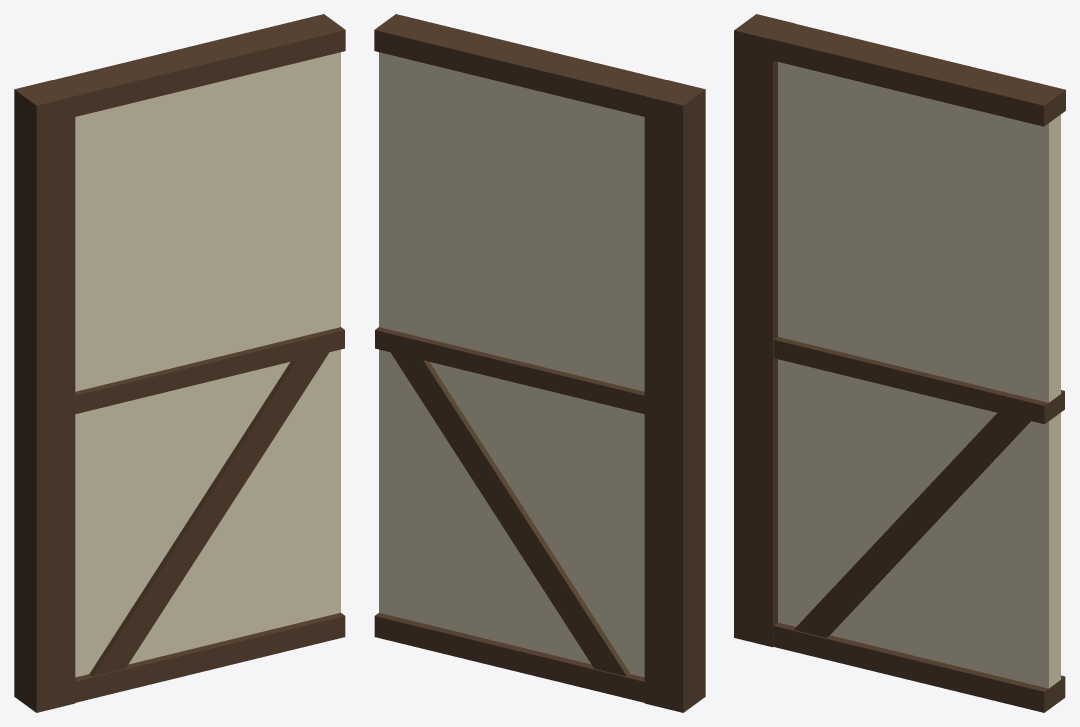
Rendered from rising_brace.glb.
The picture shows the model from 3 angles, left to right: view 1: azimuth 30°, elevation 25°; view 2: azimuth 150°, elevation 25°; view 3: azimuth 330°, elevation 25°; orthographic projection.
Visible parts, largest first — view 1: Rising brace; view 2: Rising brace; view 3: Rising brace.
Boxes of the visible parts, x1=… form: Rising brace: x1=14, y1=14, x2=345, y2=712; Rising brace: x1=374, y1=14, x2=705, y2=712; Rising brace: x1=734, y1=14, x2=1065, y2=712.
Bounding box in the file's own units: 1 × 1.88 × 0.125.
